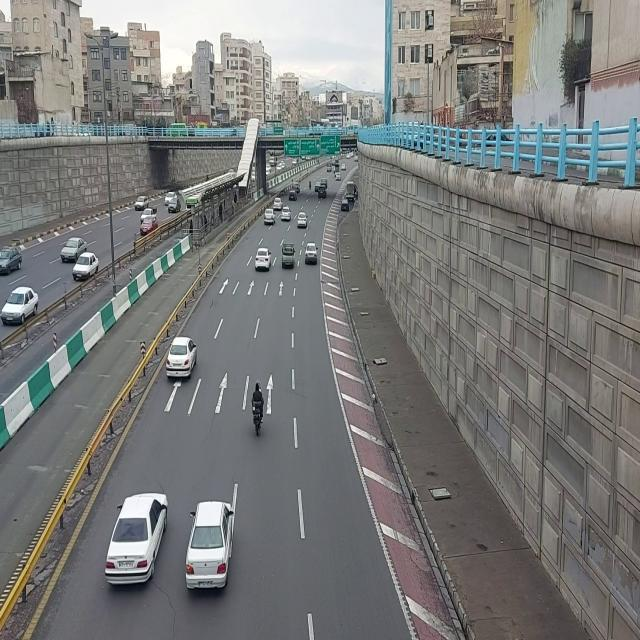Car: (105, 490, 170, 586), (184, 499, 234, 597), (0, 285, 40, 327), (165, 335, 199, 380), (72, 251, 100, 281), (0, 245, 23, 277), (61, 237, 88, 263), (255, 246, 273, 274), (140, 216, 160, 236), (304, 242, 318, 268), (263, 207, 277, 229), (167, 197, 183, 215), (296, 210, 308, 231), (134, 194, 148, 211), (273, 195, 284, 213), (280, 207, 292, 223), (318, 184, 327, 199), (288, 189, 298, 201), (165, 192, 172, 208), (292, 181, 300, 193), (315, 181, 320, 193), (336, 172, 342, 181), (341, 163, 347, 171), (292, 159, 297, 165)
Motorcycle: (252, 379, 266, 439), (309, 178, 312, 190)
Pickup: (281, 242, 296, 271), (141, 203, 159, 221), (327, 162, 333, 173)
